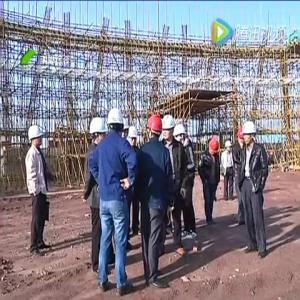red: (146, 115, 164, 141), (209, 139, 219, 157), (238, 127, 245, 146)
white: (90, 116, 108, 146), (108, 108, 124, 134), (162, 114, 176, 142), (28, 124, 43, 148), (243, 122, 257, 146), (174, 123, 187, 144), (128, 126, 139, 148), (225, 140, 233, 153)
